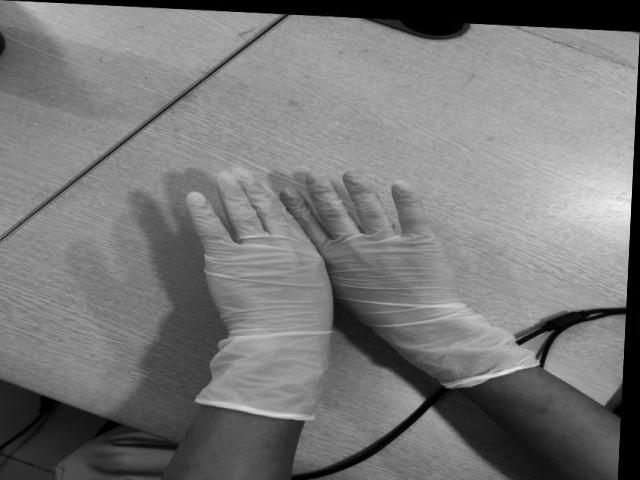gloved: (286, 167, 451, 320), (188, 168, 334, 338)
